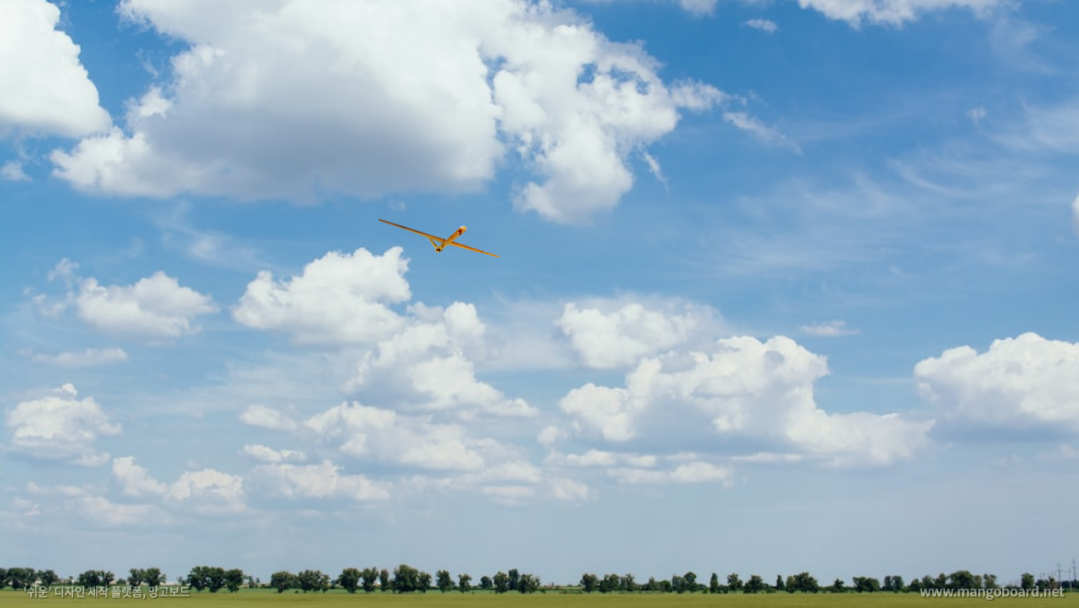military drone: (378, 218, 500, 259)
